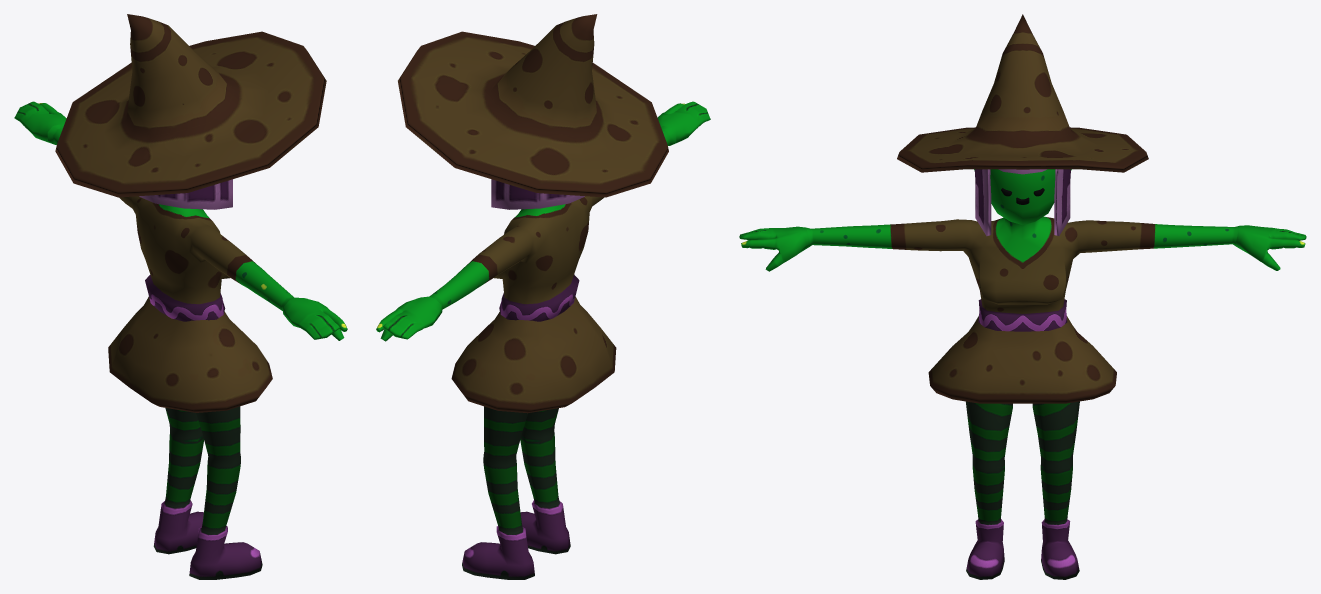
The model's file is Witch.glb.
3 views of the same model, side by side, from view 1: azimuth 30°, elevation 25°; view 2: azimuth 150°, elevation 25°; view 3: azimuth 270°, elevation 25° (orthographic). The views are drawn at different scales.
Parts seen in each view (by area): view 1: mesh_char_040; view 2: mesh_char_040; view 3: mesh_char_040.
Part boxes in pixels (<box>): mesh_char_040: <box>14,14,347,579</box>; mesh_char_040: <box>376,14,710,579</box>; mesh_char_040: <box>739,14,1306,579</box>.
Bounding box in the file's own units: 2.17 × 4.98 × 4.96.
Materials: 1 (1 with a texture image).
